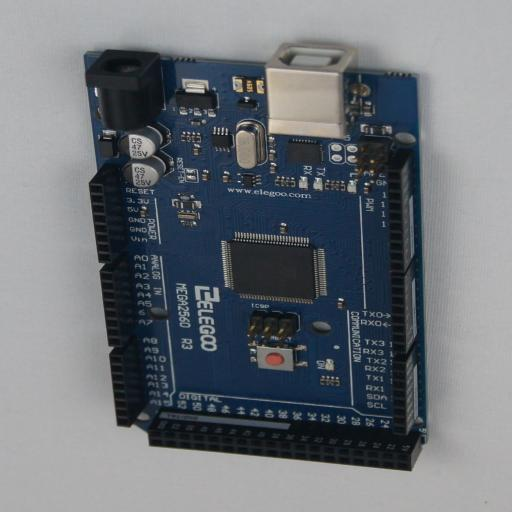Arduino Mega 2560 -Blue-: (84, 45, 428, 471)
